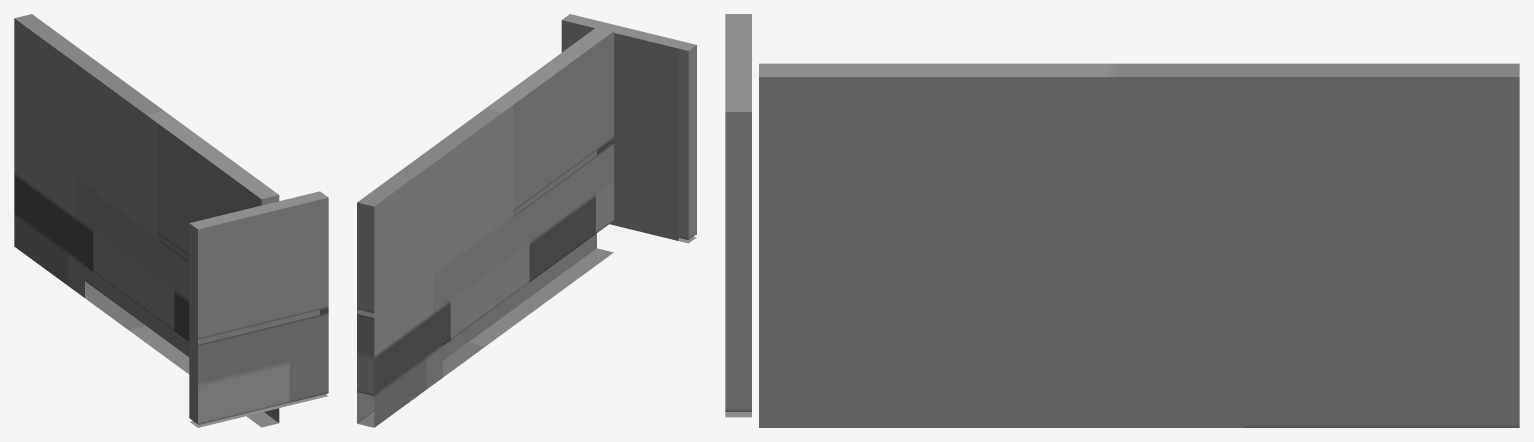
3 renders of one model, left to right at view 1: azimuth 30°, elevation 25°; view 2: azimuth 150°, elevation 25°; view 3: azimuth 270°, elevation 25°, orthographic. The views are drawn at different scales.
Bounding box in the file's own units: 0.5667 × 0.9459 × 1.94.
